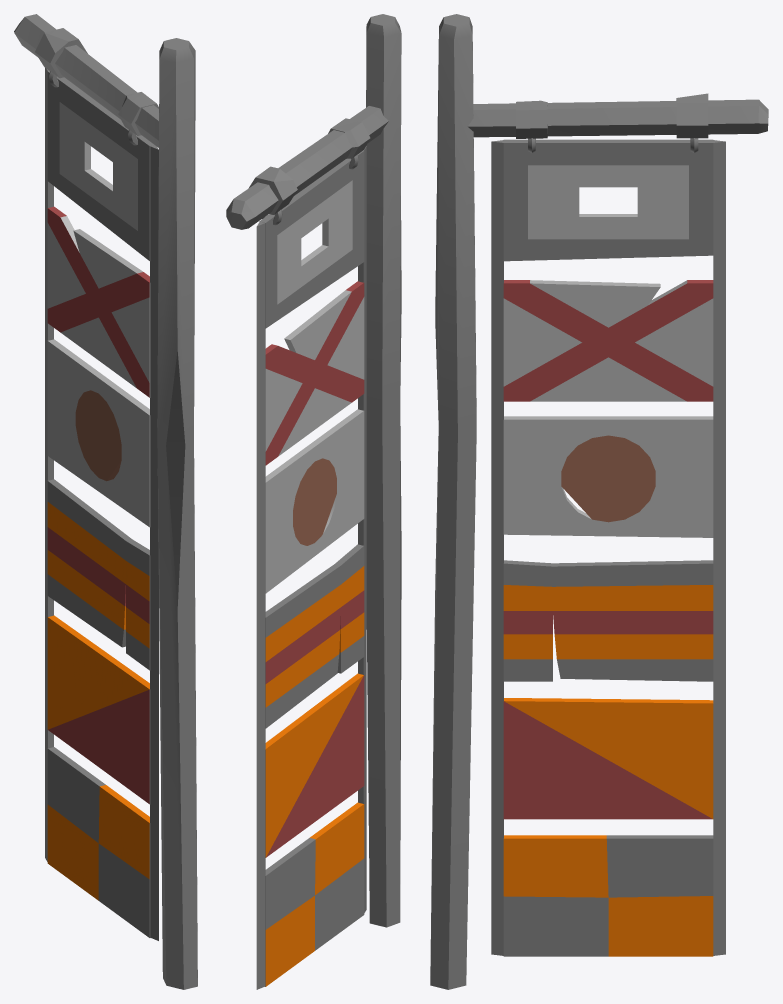
File: prop_8.FBX
The picture shows the model from 3 angles, left to right: view 1: azimuth 30°, elevation 25°; view 2: azimuth 150°, elevation 25°; view 3: azimuth 270°, elevation 25°; orthographic projection. The views are drawn at different scales.
Parts seen in each view (by area): view 1: prop_8; view 2: prop_8; view 3: prop_8.
Boxes of the visible parts, box(x1,y1,x2,y2) form: prop_8: box(14, 14, 197, 989); prop_8: box(226, 14, 401, 989); prop_8: box(430, 14, 768, 989).
Size of the model in its own units: 6.9 by 162 by 51.77.
